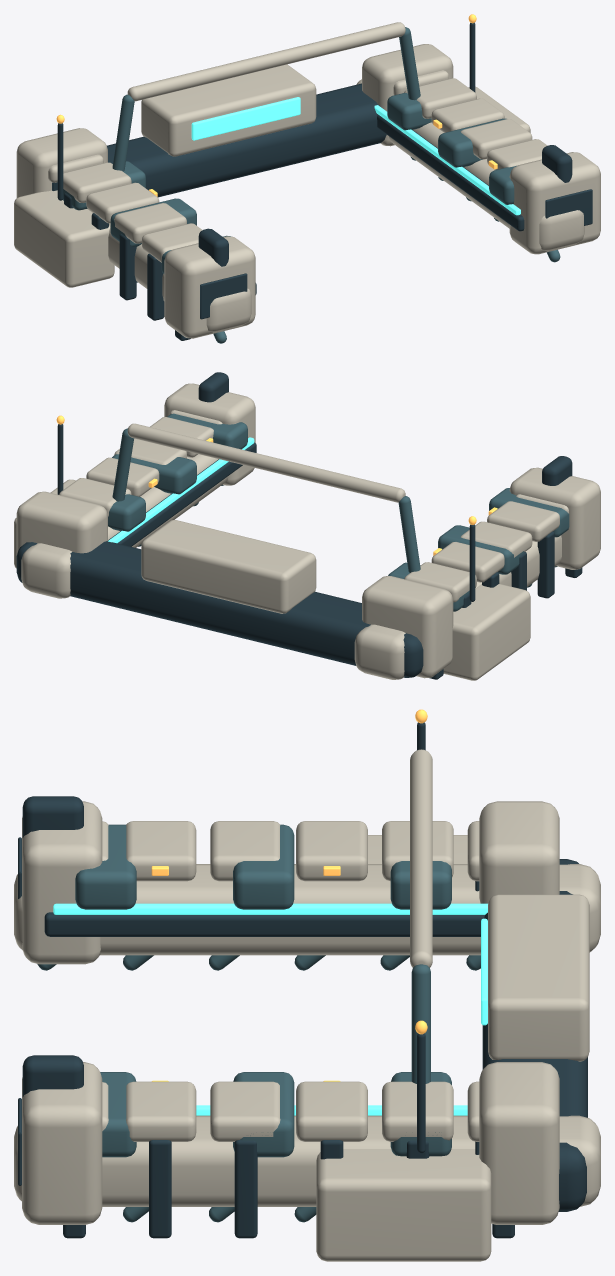
File: shipyard.glb
The picture shows the model from 3 angles, top to bottom: view 1: azimuth 30°, elevation 25°; view 2: azimuth 150°, elevation 25°; view 3: azimuth 270°, elevation 25°; orthographic projection. The views are drawn at different scales.
Visible parts, largest first — view 1: Architecture, Hardware; view 2: Architecture, Hardware; view 3: Architecture, Hardware.
Boxes of the visible parts, box(x1,y1,x2,y2) form: Architecture: box(14, 22, 600, 343); Hardware: box(56, 14, 572, 266); Architecture: box(14, 383, 600, 680); Hardware: box(56, 372, 572, 601); Architecture: box(14, 749, 600, 1261); Hardware: box(22, 709, 427, 1153).
Bounding box in the file's own units: 4.74 × 1.54 × 3.35.
